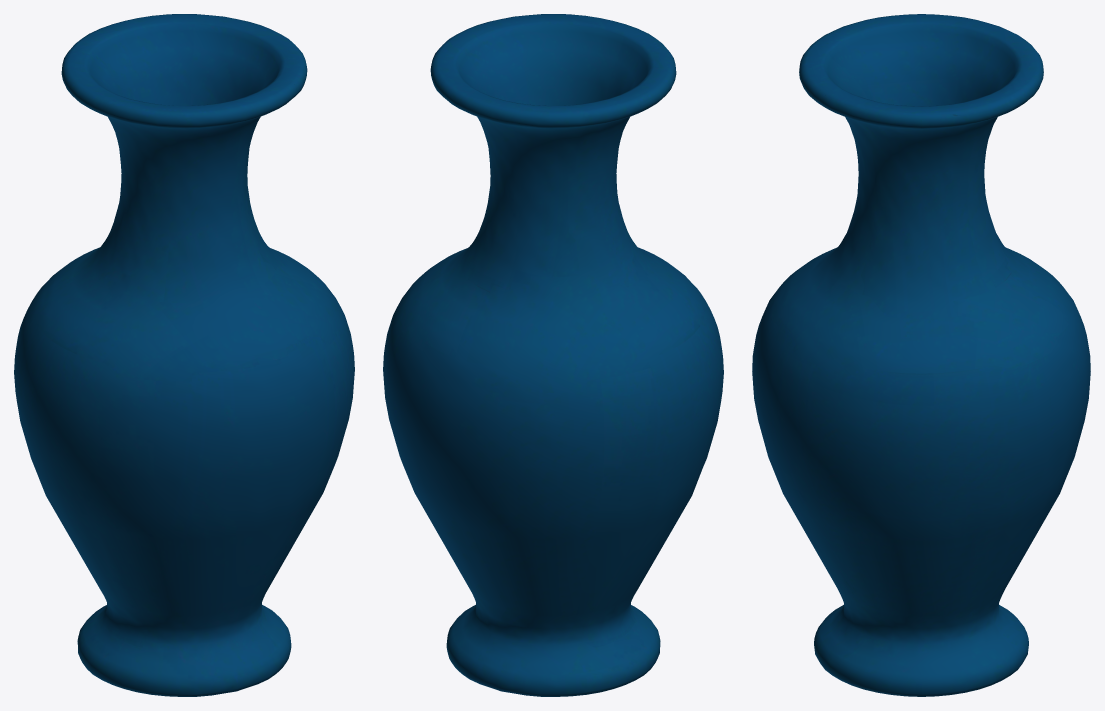
The model's file is Decorative__a_blue_vase_sculpture_fd909777_v3.cluster.glb.
The picture shows the model from 3 angles, left to right: view 1: azimuth 30°, elevation 25°; view 2: azimuth 150°, elevation 25°; view 3: azimuth 270°, elevation 25°; orthographic projection.
Visible parts, largest first — view 1: material; view 2: material; view 3: material.
Part boxes in pixels (bbox=[...]): material: bbox=[14, 14, 354, 696]; material: bbox=[383, 14, 723, 696]; material: bbox=[752, 14, 1090, 696].
Size of the model in its own units: 0.9978 by 1.9 by 0.9861.
Materials: 1 (1 with a texture image).
